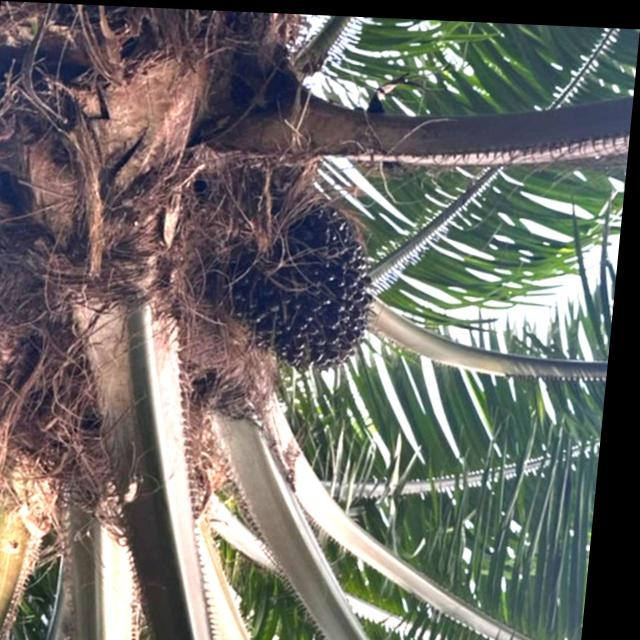almost: (215, 199, 387, 376)
